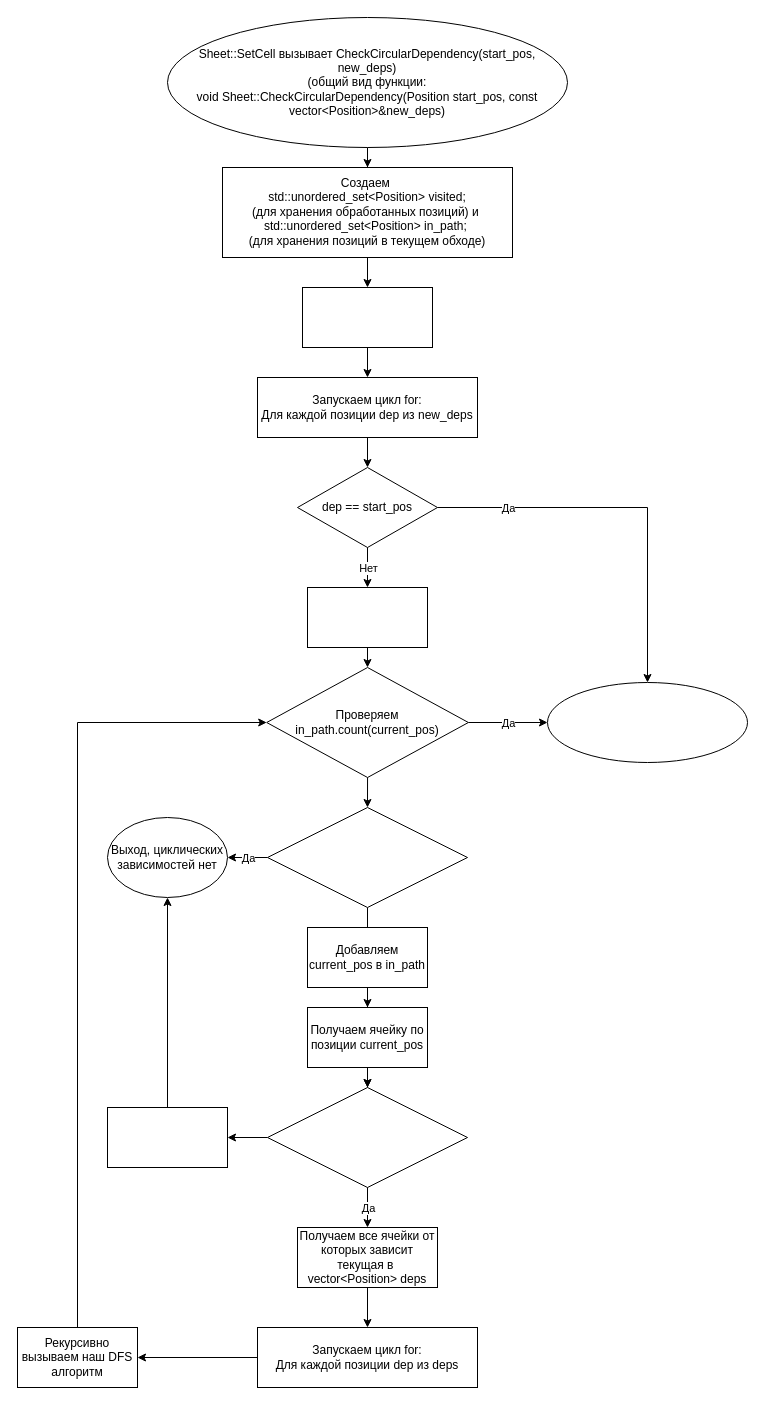
Some shapes in this 765 by 1405 pixel diagram are drawn without their labels. Each missing label, with the centre of its shape:
Выбрасываем исключение CircularDependencyException: the point at 647,722
Добавляем start_pos в in_path: the point at 367,317
Запускаем DFS алгоритм для текущей позиции: the point at 367,617
Проверяем visited.count(current_pos): the point at 367,857
Проверяем, что ячейка существует и в ней находится формула: the point at 367,1137
Убираем current_pos из in_path и добавляем в visited: the point at 167,1137
